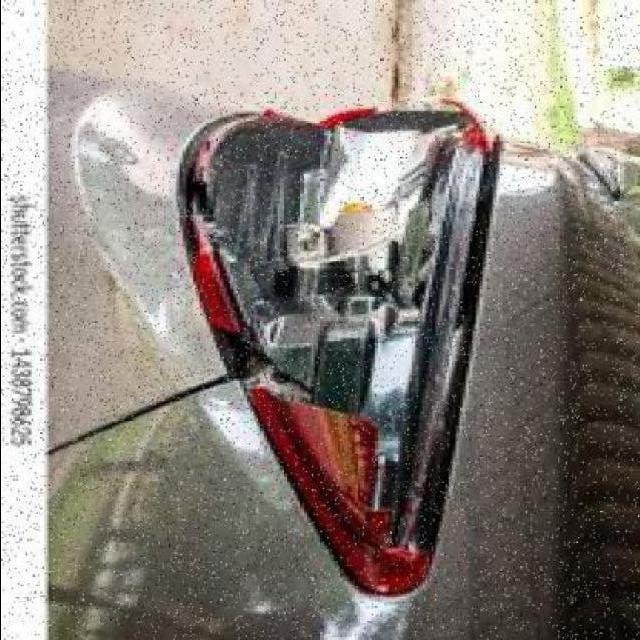Taillight-Damage: (164, 93, 498, 596)
